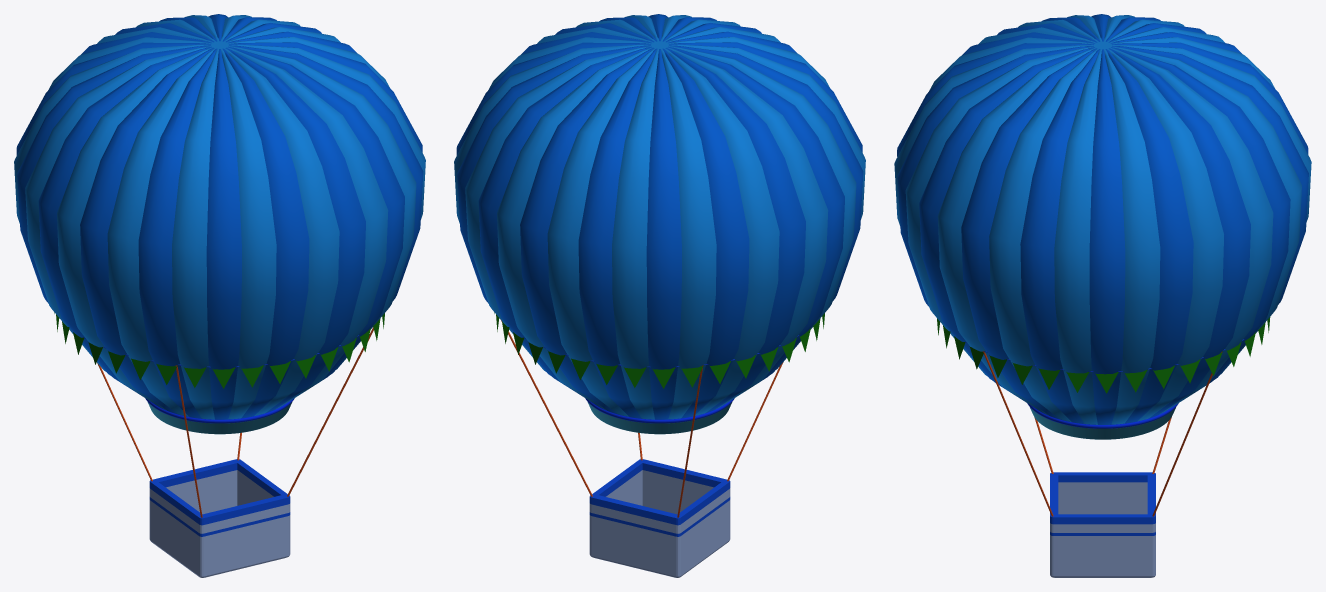
File: cartoon-air-balloon.obj
3 renders of one model, left to right at view 1: azimuth 30°, elevation 25°; view 2: azimuth 150°, elevation 25°; view 3: azimuth 270°, elevation 25°, orthographic.
Visible parts, largest first — view 1: Sphere.001, Cube, Plane; view 2: Sphere.001, Cube, Plane; view 3: Sphere.001, Cube, Plane.
Boxes of the visible parts, box(x1,y1,x2,y2) form: Sphere.001: box(14, 14, 425, 434); Cube: box(149, 459, 290, 577); Plane: box(54, 312, 384, 388); Sphere.001: box(454, 14, 865, 434); Cube: box(589, 459, 730, 577); Plane: box(494, 312, 824, 388); Sphere.001: box(894, 14, 1311, 439); Cube: box(1050, 472, 1155, 577); Plane: box(937, 317, 1270, 393).
Bounding box in the file's own units: 3.66 × 4.95 × 3.66.
